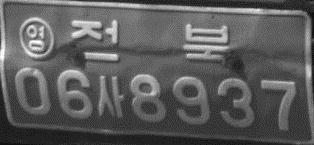0: (14, 65, 51, 116)
3: (216, 77, 255, 127)
6: (55, 69, 94, 121)
7: (260, 79, 297, 132)
8: (129, 73, 166, 123)
9: (171, 74, 210, 125)
사: (97, 74, 126, 119)
영: (17, 17, 55, 59)
전북_D: (70, 18, 231, 64)
